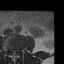CCS_stenosis: (13, 47, 15, 56)
LFS_severe_stenosis: (17, 47, 20, 53)
LLS_stenosis: (15, 47, 17, 54)
RFS_stenosis: (9, 47, 11, 52)
RLS_stenosis: (11, 47, 13, 54)
